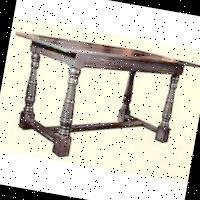Mesa: (0, 26, 199, 178)
